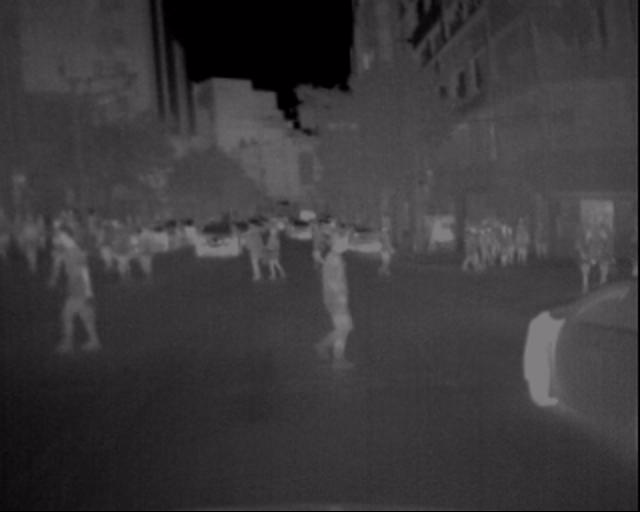person: (300, 218, 386, 380), (29, 227, 99, 372), (435, 217, 532, 277), (125, 219, 164, 306), (97, 218, 139, 295), (323, 219, 362, 280), (6, 216, 36, 285), (241, 228, 272, 284)
